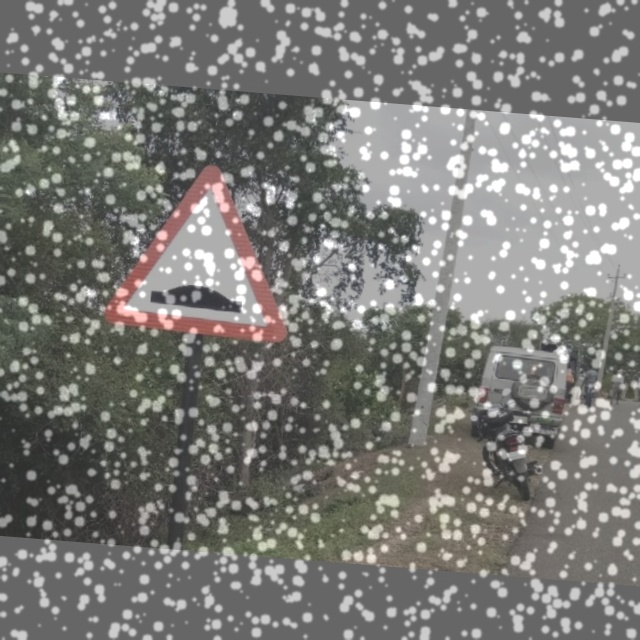Dangerous_Dip: (108, 156, 297, 345)
